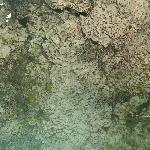dead: (1, 4, 148, 149)
